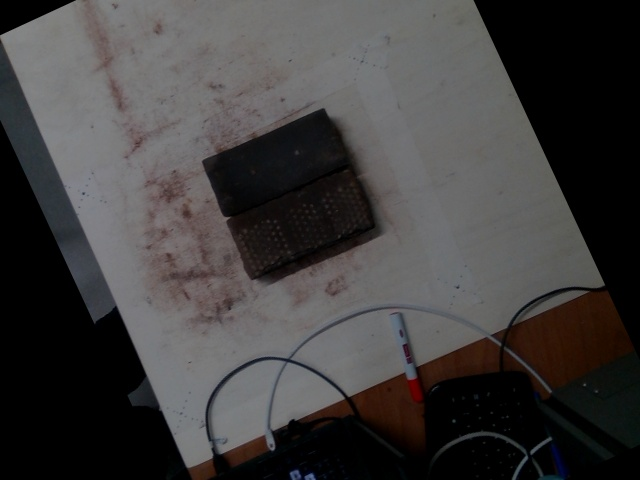brick: (200, 107, 350, 213)
brick-side: (224, 166, 379, 277)
